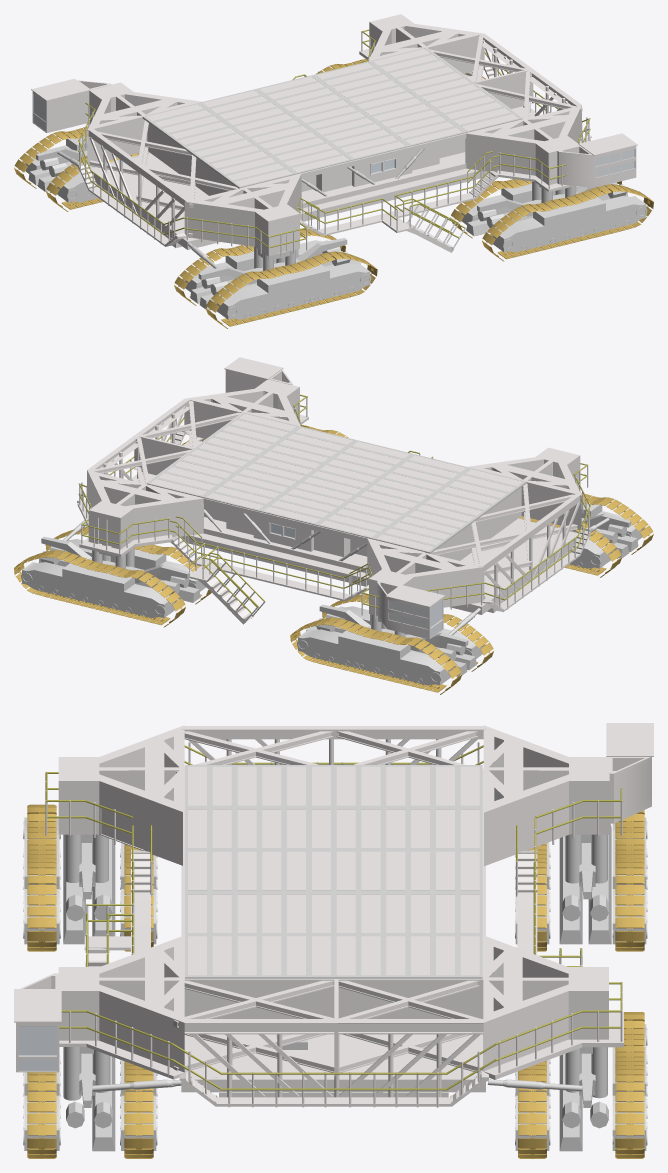
File: crawler.glb
3 renders of one model, top to bottom at view 1: azimuth 30°, elevation 25°; view 2: azimuth 150°, elevation 25°; view 3: azimuth 270°, elevation 25°, orthographic. The views are drawn at different scales.
Visible parts, largest first — view 1: polySurface1; view 2: polySurface1; view 3: polySurface1.
Part boxes in pixels (x1,y1,x2,y2): polySurface1: (14, 14, 653, 328); polySurface1: (14, 357, 653, 694); polySurface1: (14, 723, 653, 1158).
Size of the model in its own units: 8.77 by 1.7 by 7.2.
2 materials, 2 textured.
